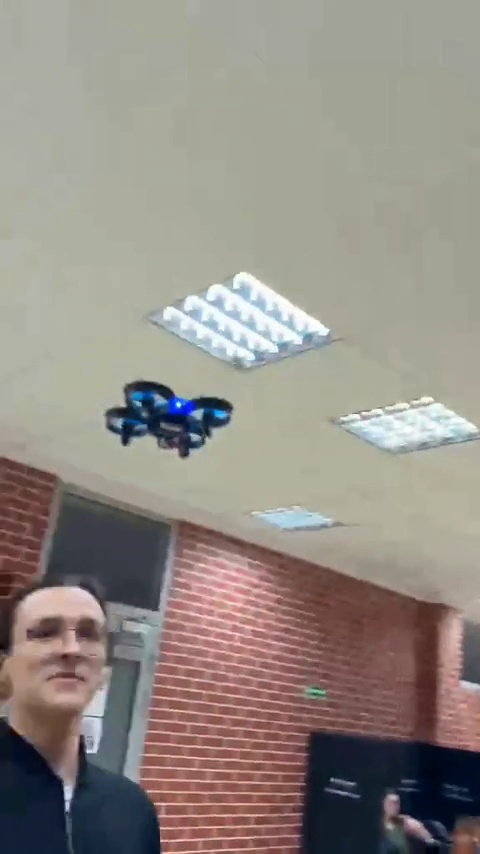drone: (107, 376, 233, 452)
no vest: (12, 577, 164, 848)
